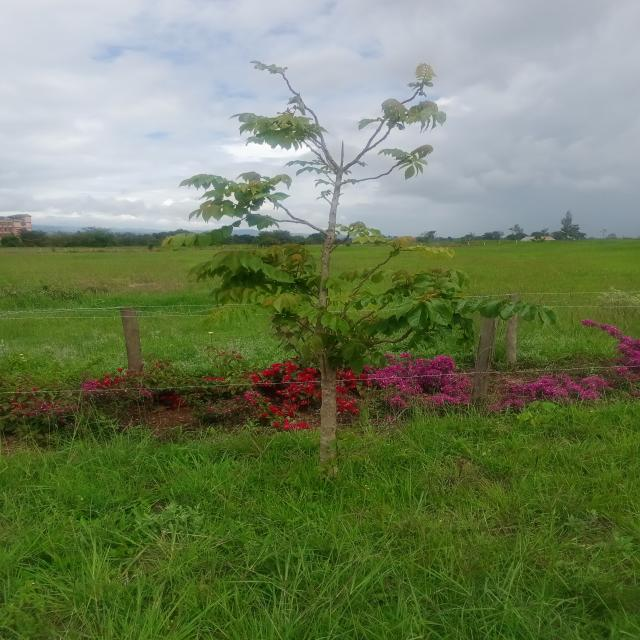Polyscias Kikuyensis: (162, 46, 548, 469)
